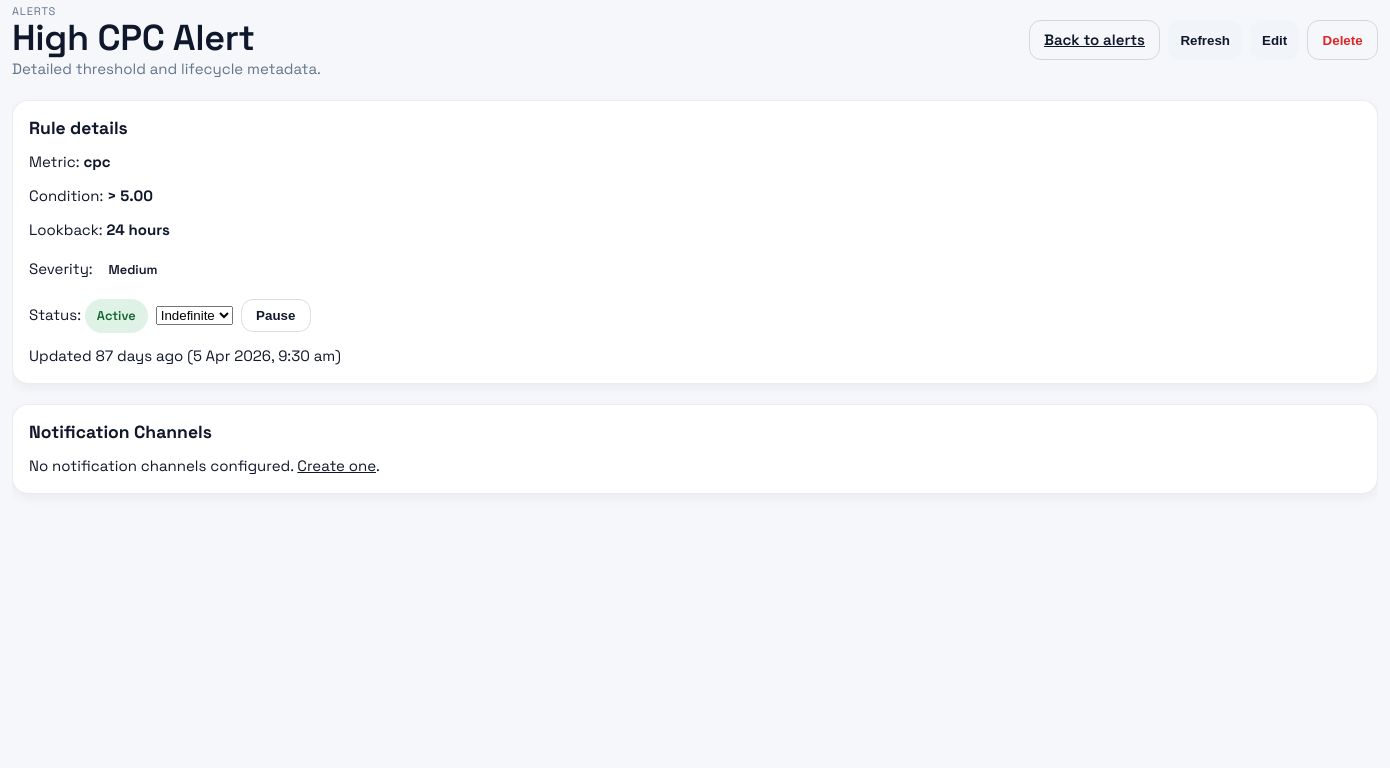
Test: AlertDetailPage › clicking Edit reveals editable rule form fields
The width and height of the screenshot is (1390, 768).
Expected: the heading "High CPC Alert" is shown, [12,15,255,61]
Click the button "Edit": (1275, 40) [1250,20,1299,60]
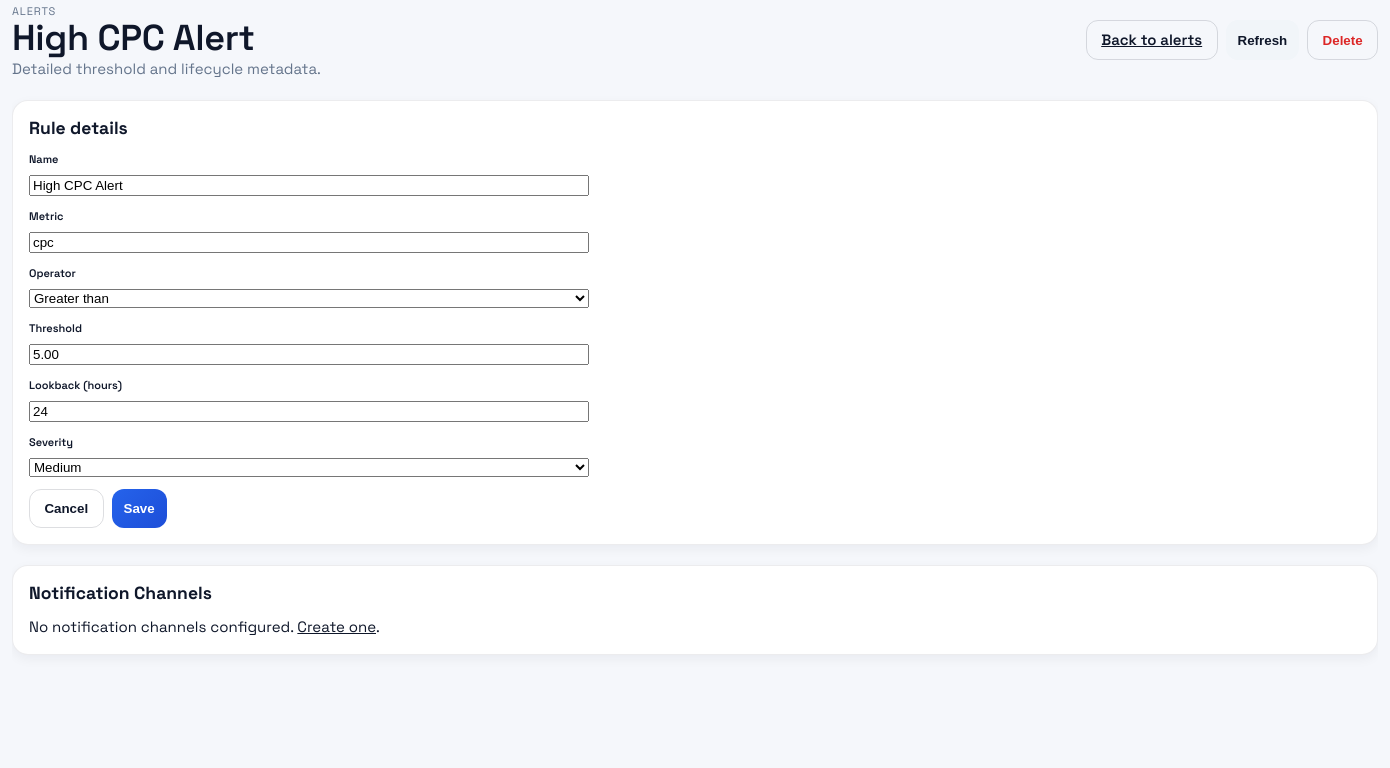
Result: the field labelled "Name" is shown at [29,175,589,196]
Result: the field labelled "Metric" is shown at [29,232,589,253]
Result: the number field labelled "Threshold" is shown at [29,344,589,365]
